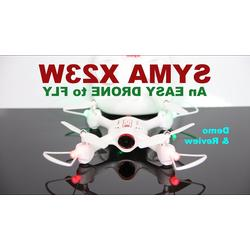drone: (42, 98, 208, 187)
